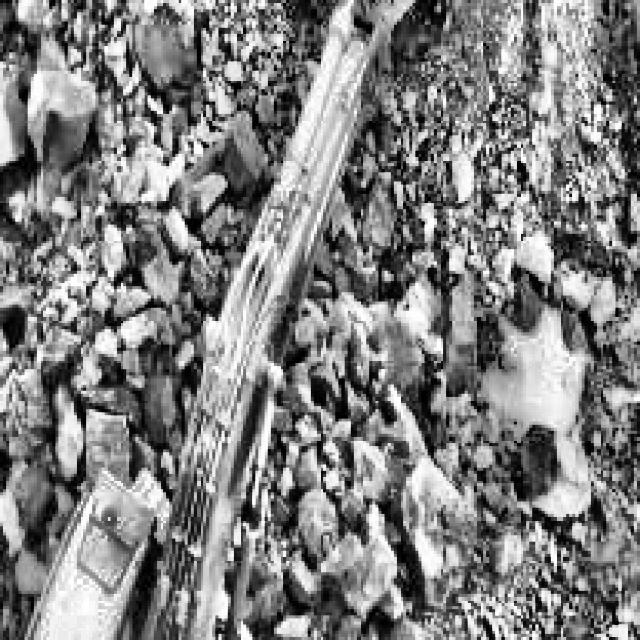excavator: (0, 0, 498, 640)
